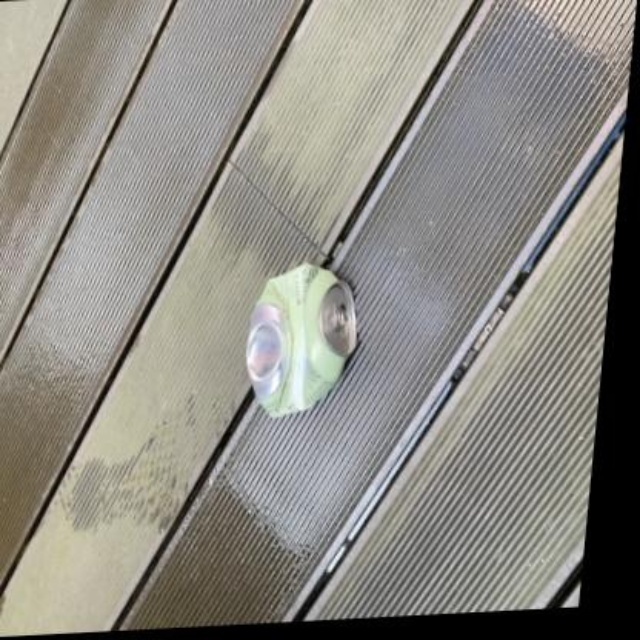trash: (246, 263, 355, 415)
